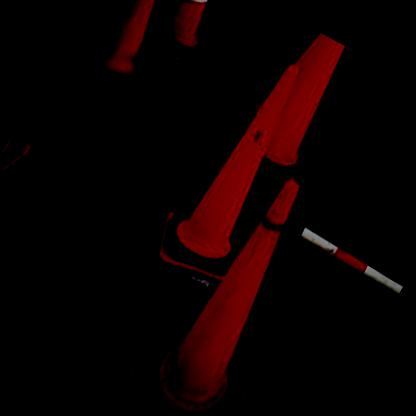cone: (114, 155, 353, 415), (146, 44, 332, 290), (211, 13, 364, 186), (83, 0, 199, 86)
